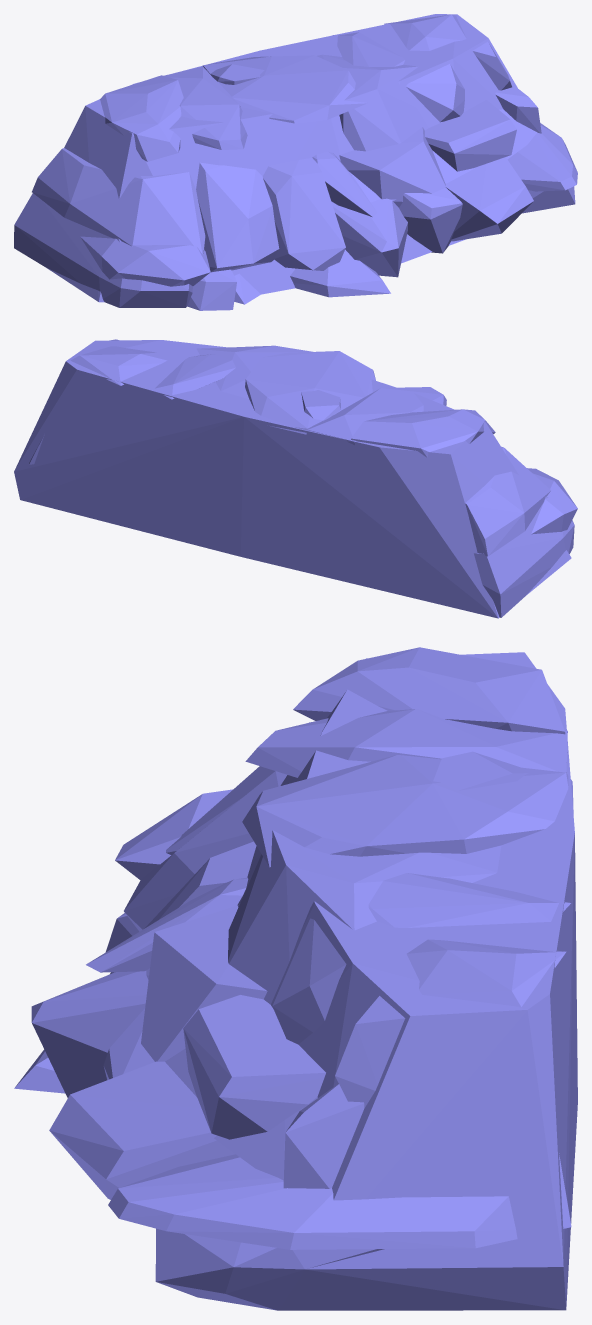
Rendered from Ledge_02_Slope_Collider_01.FBX.
The picture shows the model from 3 angles, top to bottom: view 1: azimuth 30°, elevation 25°; view 2: azimuth 150°, elevation 25°; view 3: azimuth 270°, elevation 25°; orthographic projection. The views are drawn at different scales.
Parts seen in each view (by area): view 1: COLLIDER1, COLLIDER2, COLLIDER7, COLLIDER22, COLLIDER6, COLLIDER17, COLLIDER16, COLLIDER3, COLLIDER12, COLLIDER13, COLLIDER4, COLLIDER15 (+16 smaller); view 2: COLLIDER1, COLLIDER6, COLLIDER22, COLLIDER2, COLLIDER3, COLLIDER5, COLLIDER20, COLLIDER21, COLLIDER16, COLLIDER4, COLLIDER24; view 3: COLLIDER1, COLLIDER11, COLLIDER6, COLLIDER16, COLLIDER12, COLLIDER15, COLLIDER3, COLLIDER5, COLLIDER13, COLLIDER14, COLLIDER10, COLLIDER21 (+13 smaller).
Part boxes in pixels (left/top/right/bottom): COLLIDER1: left=47, top=14, right=517, bottom=302; COLLIDER2: left=32, top=148, right=205, bottom=254; COLLIDER7: left=196, top=162, right=279, bottom=272; COLLIDER22: left=14, top=193, right=192, bottom=307; COLLIDER6: left=203, top=55, right=367, bottom=123; COLLIDER17: left=262, top=158, right=345, bottom=270; COLLIDER16: left=317, top=54, right=428, bottom=151; COLLIDER3: left=100, top=75, right=183, bottom=161; COLLIDER12: left=445, top=157, right=533, bottom=241; COLLIDER13: left=339, top=127, right=445, bottom=207; COLLIDER4: left=80, top=236, right=210, bottom=286; COLLIDER15: left=425, top=100, right=516, bottom=171; COLLIDER1: left=14, top=340, right=571, bottom=618; COLLIDER6: left=245, top=351, right=375, bottom=434; COLLIDER22: left=474, top=496, right=574, bottom=617; COLLIDER2: left=465, top=446, right=550, bottom=556; COLLIDER3: left=351, top=409, right=495, bottom=457; COLLIDER5: left=308, top=387, right=446, bottom=445; COLLIDER20: left=70, top=346, right=167, bottom=385; COLLIDER21: left=154, top=354, right=235, bottom=399; COLLIDER16: left=196, top=345, right=312, bottom=398; COLLIDER4: left=527, top=468, right=577, bottom=534; COLLIDER24: left=301, top=390, right=340, bottom=420; COLLIDER1: left=237, top=652, right=577, bottom=1310; COLLIDER11: left=108, top=1153, right=571, bottom=1249; COLLIDER6: left=242, top=755, right=573, bottom=867; COLLIDER16: left=228, top=830, right=501, bottom=1004; COLLIDER12: left=49, top=1061, right=235, bottom=1199; COLLIDER15: left=183, top=995, right=325, bottom=1139; COLLIDER3: left=293, top=647, right=565, bottom=734; COLLIDER5: left=245, top=709, right=567, bottom=777; COLLIDER13: left=141, top=905, right=267, bottom=1061; COLLIDER14: left=155, top=1228, right=384, bottom=1310; COLLIDER10: left=31, top=971, right=148, bottom=1097; COLLIDER21: left=368, top=873, right=570, bottom=927.
Bounding box in the file's own units: 436 × 127 × 225.
